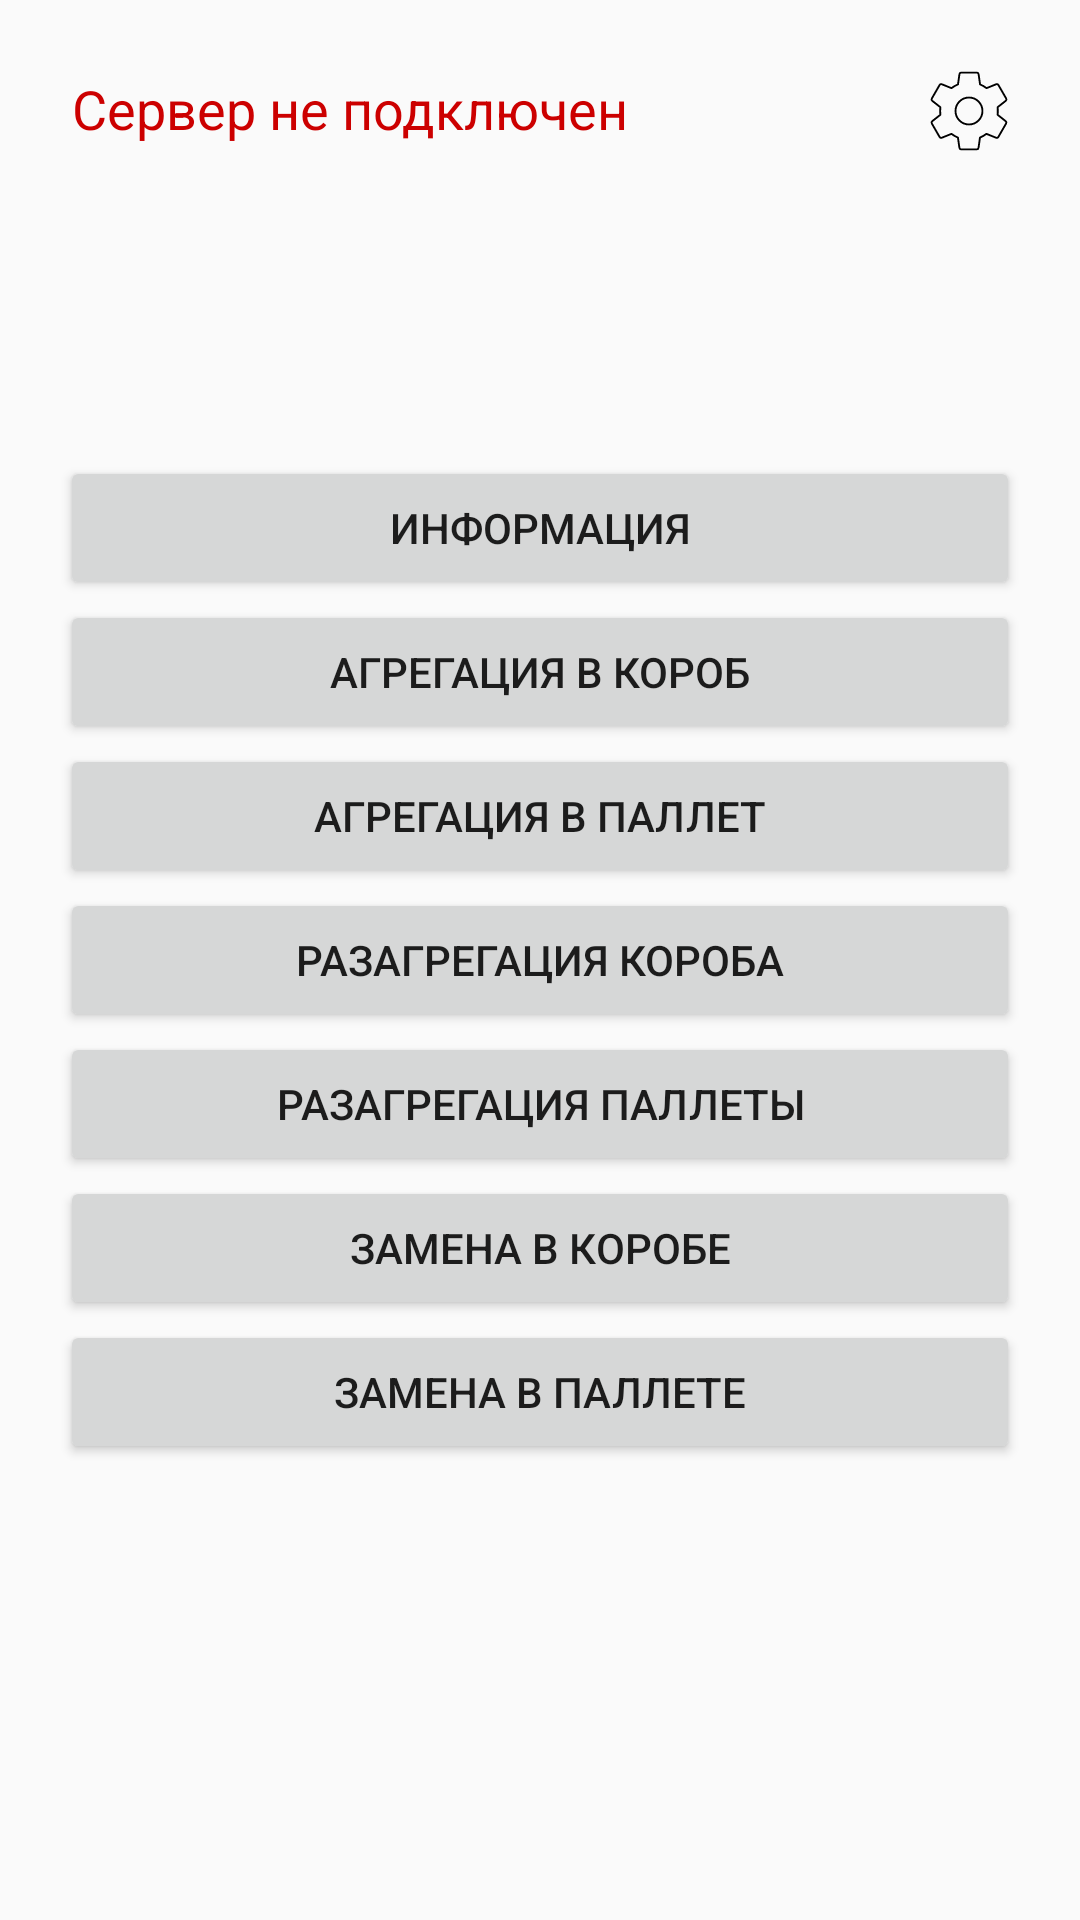

Where icons sit on this 1080 x 1920 app screen, as (x1, y1, x2, y2):
Настройки: (930, 71, 1008, 151)
